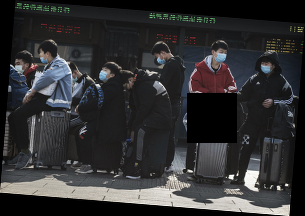mask_weared_incorrect: (37, 53, 48, 65)
with_mask: (259, 61, 272, 75), (215, 49, 227, 63), (98, 68, 110, 82), (13, 60, 25, 74), (154, 55, 166, 65)
